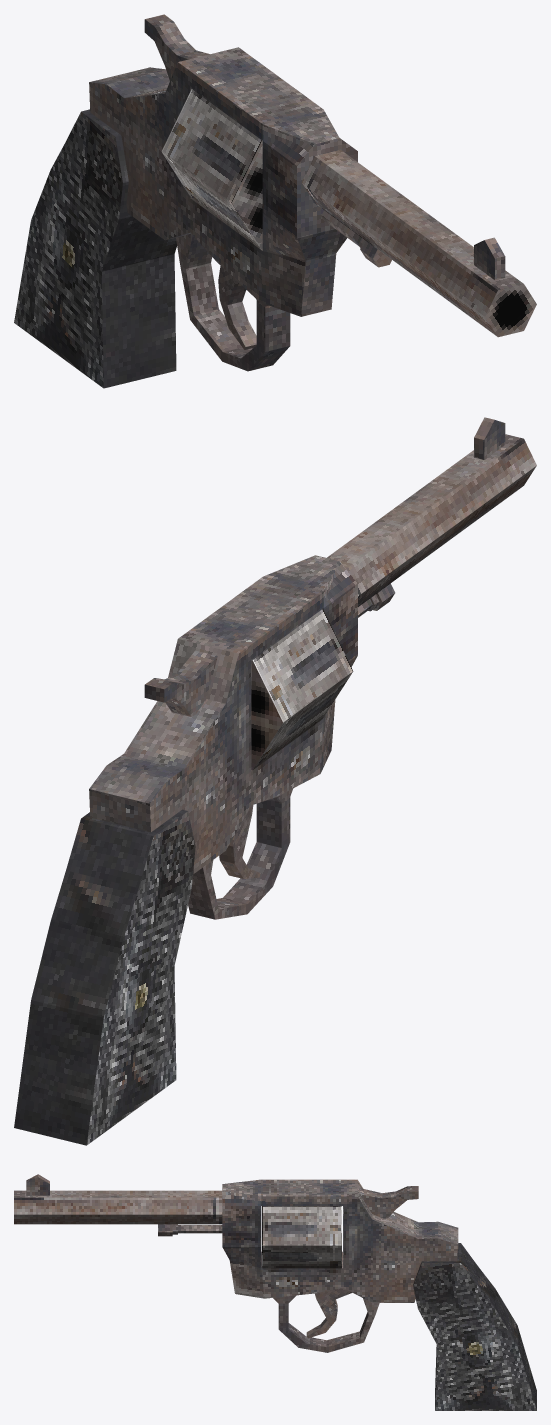
The model's file is PSX_Old_Colt_Revolver_38.glb.
3 renders of one model, top to bottom at view 1: azimuth 30°, elevation 25°; view 2: azimuth 150°, elevation 25°; view 3: azimuth 270°, elevation 25°, orthographic. The views are drawn at different scales.
Parts seen in each view (by area): view 1: Cylinder.004; view 2: Cylinder.004; view 3: Cylinder.004.
Boxes of the visible parts, bbox=[...] form: Cylinder.004: bbox=[14, 14, 536, 388]; Cylinder.004: bbox=[14, 417, 536, 1145]; Cylinder.004: bbox=[14, 1174, 536, 1410].
Bounding box in the file's own units: 0.0615 × 0.1917 × 0.4035.
1 material, 1 textured.
